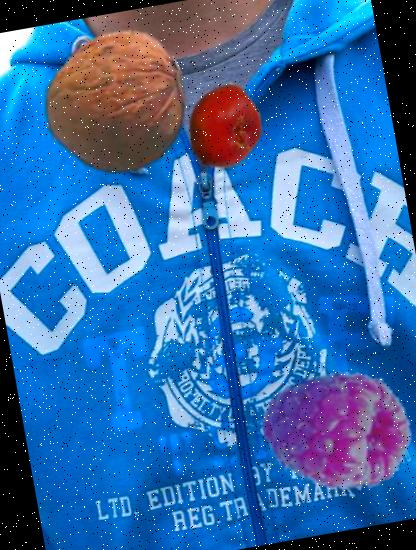Nectarine: (176, 78, 274, 176)
Raspberry: (251, 347, 416, 520)
Walnut: (34, 19, 202, 188)
